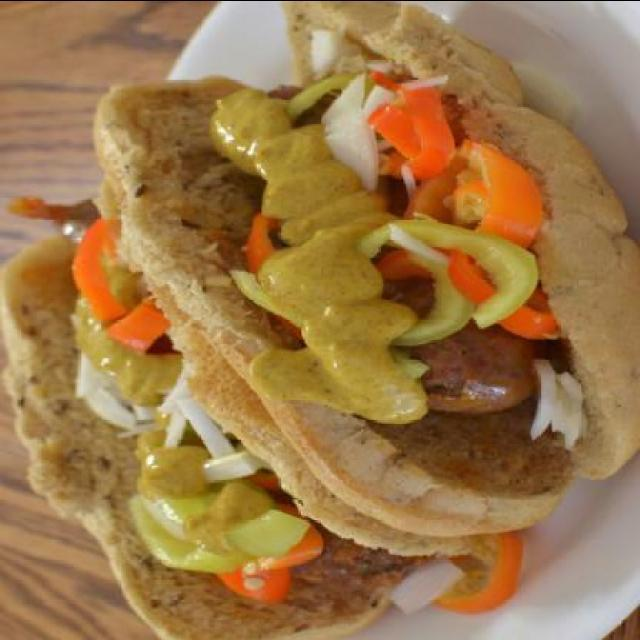Hot dog: (82, 1, 640, 547), (0, 177, 492, 640)
